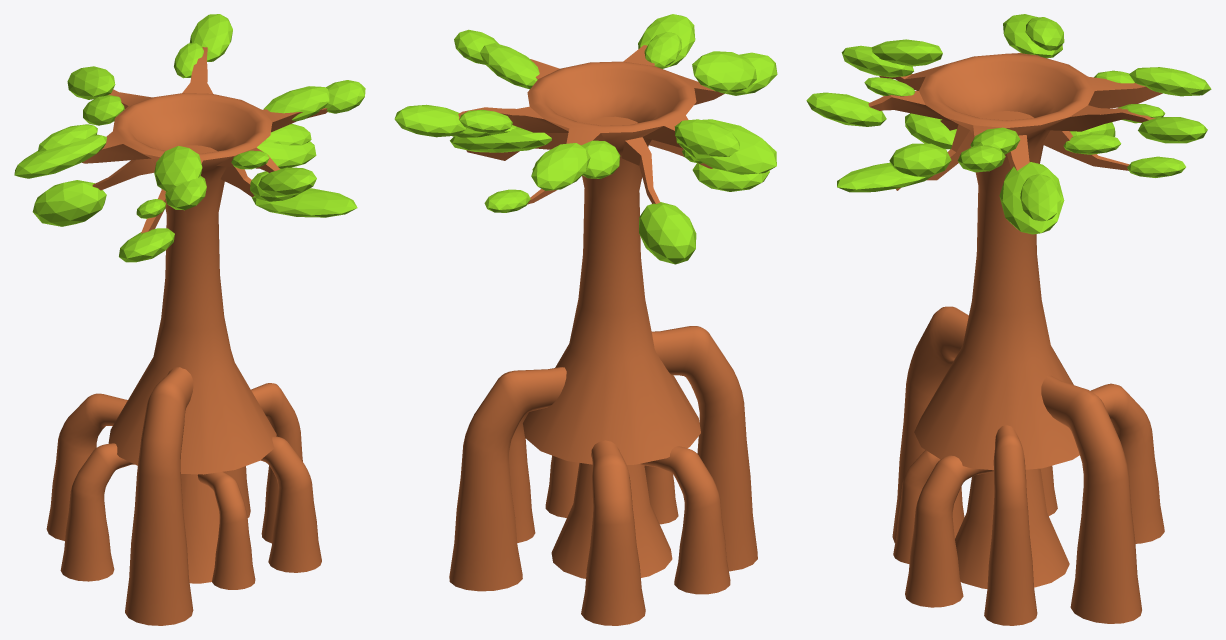
File: Main Tree root .fbx
3 views of the same model, side by side, from view 1: azimuth 30°, elevation 25°; view 2: azimuth 150°, elevation 25°; view 3: azimuth 270°, elevation 25° (orthographic). The views are drawn at different scales.
Parts seen in each view (by area): view 1: Cylinder.002; view 2: Cylinder.002; view 3: Cylinder.002.
Part boxes in pixels (x1,y1,x2,y2): Cylinder.002: [14, 14, 365, 625]; Cylinder.002: [394, 14, 777, 625]; Cylinder.002: [806, 14, 1211, 625].
Bounding box in the file's own units: 2291 × 3126 × 2260.
